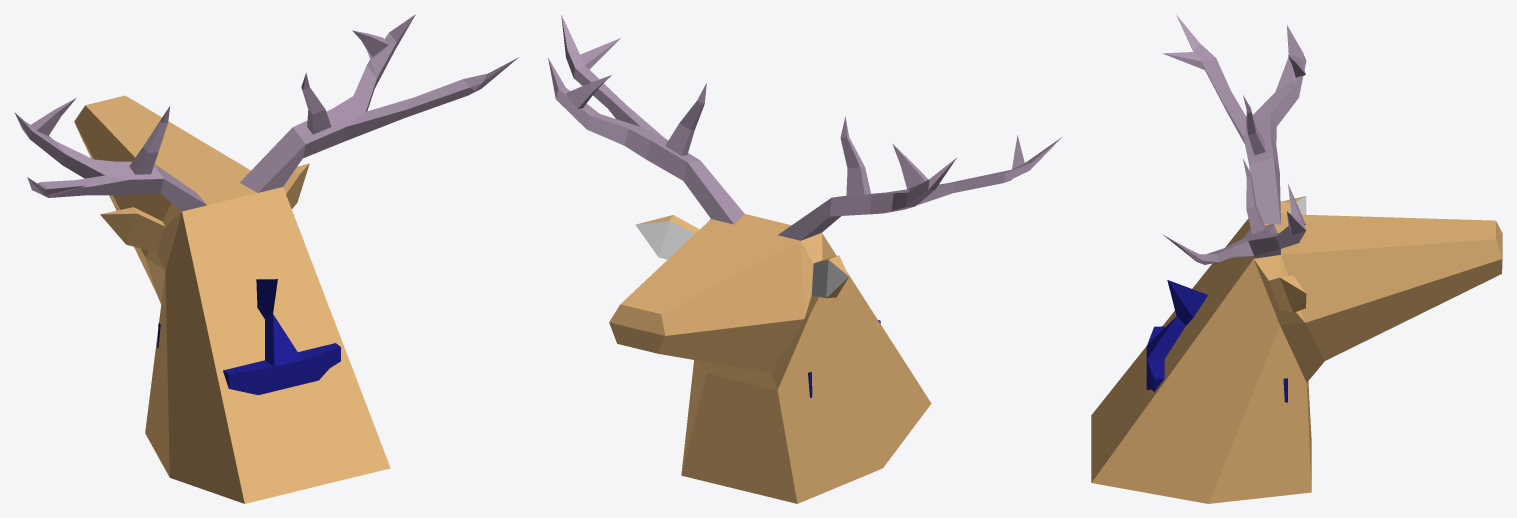
Rendered from Deer Helmet.fbx.
3 views of the same model, side by side, from view 1: azimuth 30°, elevation 25°; view 2: azimuth 150°, elevation 25°; view 3: azimuth 270°, elevation 25° (orthographic). The views are drawn at different scales.
Visible parts, largest first — view 1: Deer, SharkFinHat; view 2: Deer; view 3: Deer, SharkFinHat.
Boxes of the visible parts, x1,y1,x2,y2 form: Deer: (14,14,518,503); SharkFinHat: (157,279,340,395); Deer: (548,15,1061,503); Deer: (1091,15,1502,503); SharkFinHat: (1146,280,1287,402).
Bounding box in the file's own units: 729 × 554 × 549.
